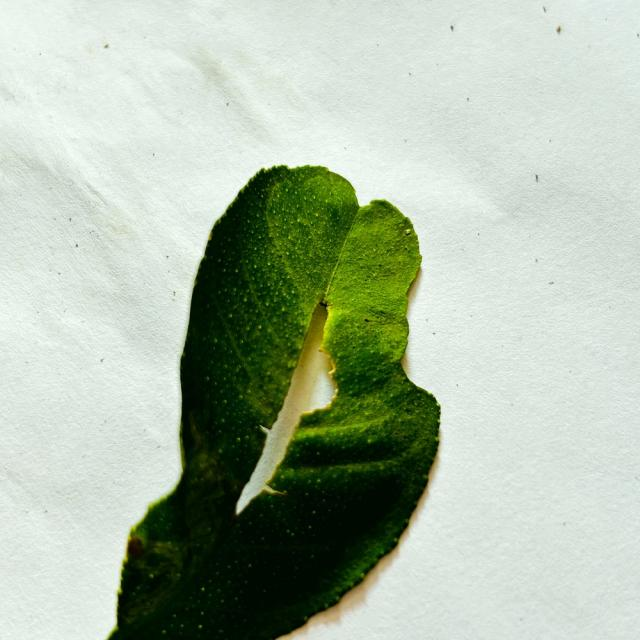Deficiency Leaf: (236, 306, 333, 513), (126, 330, 179, 520), (401, 264, 458, 406)
Lemon: (110, 166, 440, 639)
